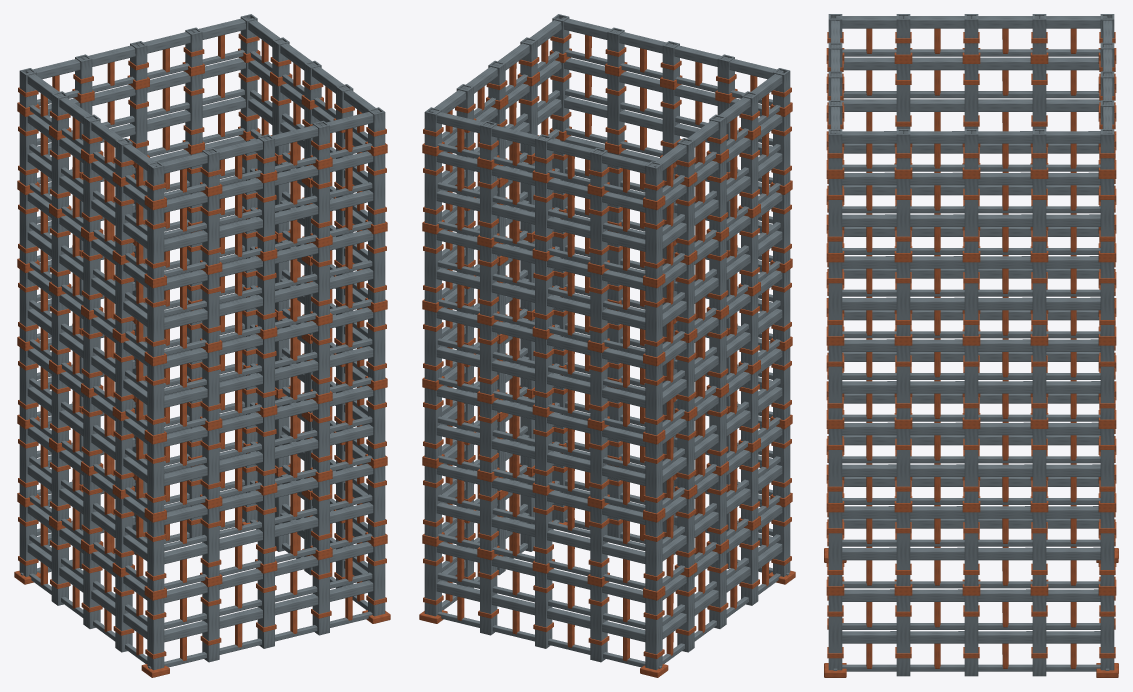
3 renders of one model, left to right at view 1: azimuth 30°, elevation 25°; view 2: azimuth 150°, elevation 25°; view 3: azimuth 270°, elevation 25°, orthographic. The views are drawn at different scales.
Visible parts, largest first — view 1: Tier 0 side 0 post 0, Tier 1 side 0 post 0, Tier 4 side 0 post 0, Tier 3 side 0 post 0, Tier 2 side 0 post 0, Tier 5 side 0 post 0, Tier 0 side 0 post 1, Tier 0 side 0 post 2, Tier 0 side 0 post 3, Tier 0 side 1 post 0, Tier 2 side 1 post 0, Tier 1 side 1 post 0 (+55 smaller); view 2: Tier 0 side 3 post 0, Tier 1 side 3 post 0, Tier 4 side 3 post 0, Tier 3 side 3 post 0, Tier 2 side 3 post 0, Tier 5 side 3 post 0, Tier 0 side 2 post 3, Tier 0 side 2 post 2, Tier 0 side 2 post 1, Tier 2 side 2 post 0, Tier 0 side 2 post 0, Tier 5 side 2 post 0 (+55 smaller); view 3: Tier 0 side 1 post 1, Tier 0 side 1 post 2, Tier 0 side 1 post 3, Tier 0 side 1 post 0, Tier 0 side 2 post 0, Tier 3 side 1 post 0, Tier 3 side 1 post 1, Tier 3 side 1 post 2, Tier 3 side 1 post 3, Tier 3 side 2 post 0, Tier 1 side 1 post 0, Tier 1 side 1 post 1 (+133 smaller).
Part boxes in pixels (<box>): Tier 0 side 0 post 0: <box>147,597,164,670</box>; Tier 1 side 0 post 0: <box>147,519,164,591</box>; Tier 4 side 0 post 0: <box>147,284,164,357</box>; Tier 3 side 0 post 0: <box>147,363,164,435</box>; Tier 2 side 0 post 0: <box>147,441,164,513</box>; Tier 5 side 0 post 0: <box>147,206,164,279</box>; Tier 0 side 0 post 1: <box>202,584,219,662</box>; Tier 0 side 0 post 2: <box>257,571,274,648</box>; Tier 0 side 0 post 3: <box>312,557,329,635</box>; Tier 0 side 1 post 0: <box>368,544,385,616</box>; Tier 2 side 1 post 0: <box>368,388,385,459</box>; Tier 1 side 1 post 0: <box>368,466,385,537</box>; Tier 0 side 3 post 0: <box>645,597,662,670</box>; Tier 1 side 3 post 0: <box>645,519,662,591</box>; Tier 4 side 3 post 0: <box>645,284,662,357</box>; Tier 3 side 3 post 0: <box>645,362,662,435</box>; Tier 2 side 3 post 0: <box>645,441,662,513</box>; Tier 5 side 3 post 0: <box>645,206,662,279</box>; Tier 0 side 2 post 3: <box>590,584,607,662</box>; Tier 0 side 2 post 2: <box>535,571,552,648</box>; Tier 0 side 2 post 1: <box>480,557,497,635</box>; Tier 2 side 2 post 0: <box>424,388,441,459</box>; Tier 0 side 2 post 0: <box>424,544,441,616</box>; Tier 5 side 2 post 0: <box>424,154,441,225</box>; Tier 0 side 1 post 1: <box>896,595,910,676</box>; Tier 0 side 1 post 2: <box>964,595,978,676</box>; Tier 0 side 1 post 3: <box>1032,595,1046,676</box>; Tier 0 side 1 post 0: <box>828,595,842,670</box>; Tier 0 side 2 post 0: <box>1100,595,1114,670</box>; Tier 3 side 1 post 0: <box>828,345,842,419</box>; Tier 3 side 1 post 1: <box>896,345,910,419</box>; Tier 3 side 1 post 2: <box>964,345,978,419</box>; Tier 3 side 1 post 3: <box>1032,345,1046,419</box>; Tier 3 side 2 post 0: <box>1100,345,1114,419</box>; Tier 1 side 1 post 0: <box>828,512,842,586</box>; Tier 1 side 1 post 1: <box>896,512,910,586</box>.
Size of the model in its own units: 1.95 by 3.95 by 1.95.
2 materials, 2 textured.
